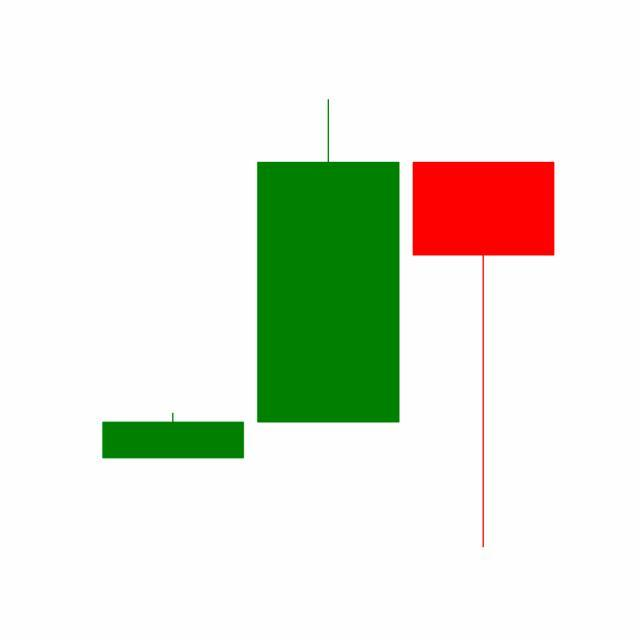Hammer: (406, 159, 562, 553)
